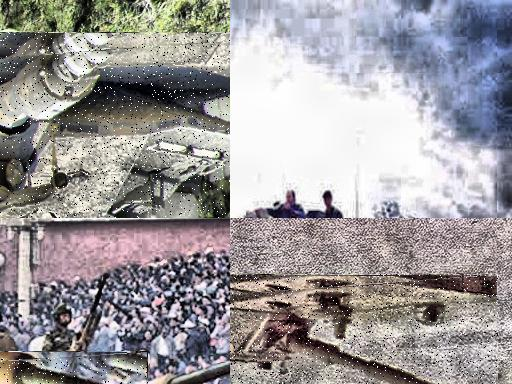tanks: (1, 40, 231, 219), (231, 275, 499, 384), (1, 360, 96, 384), (148, 360, 231, 384), (264, 211, 268, 218), (301, 210, 304, 219), (251, 214, 256, 217)
